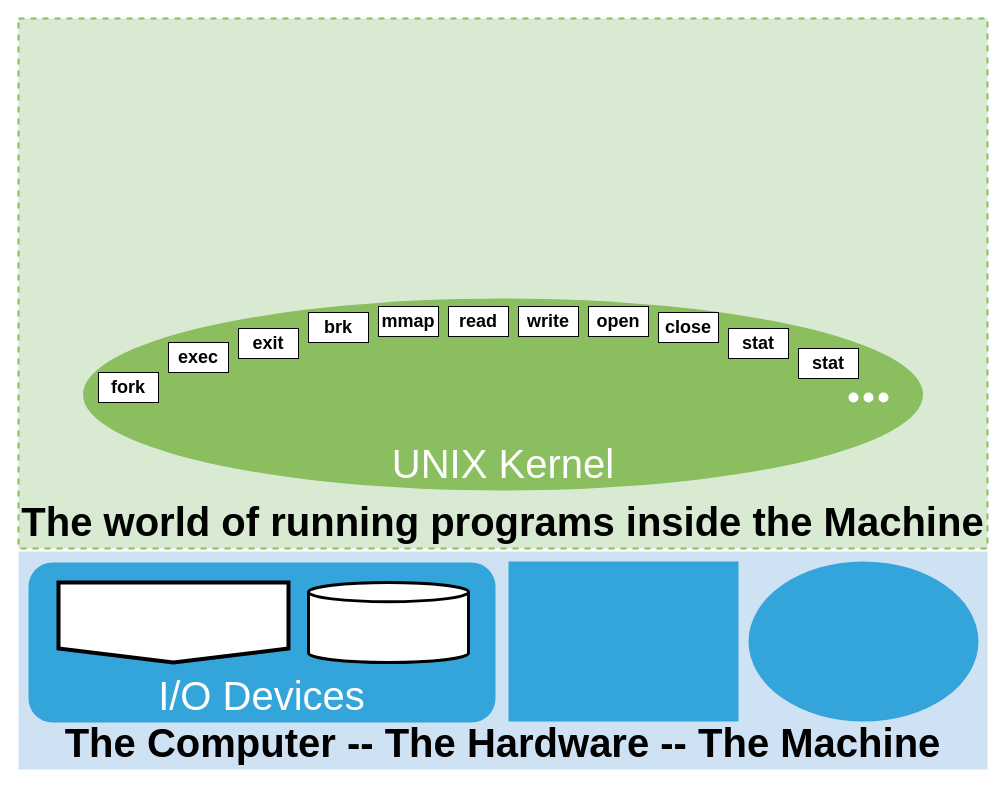
This 1005x786 diagram has some shape labels left out. Each missing label, with the centre of its shape:
"Communication Devices" belongs at (x=173, y=622).
"CPU" belongs at (x=863, y=641).
"Main Memory" belongs at (x=623, y=641).
"Storage Devices" belongs at (x=388, y=622).
